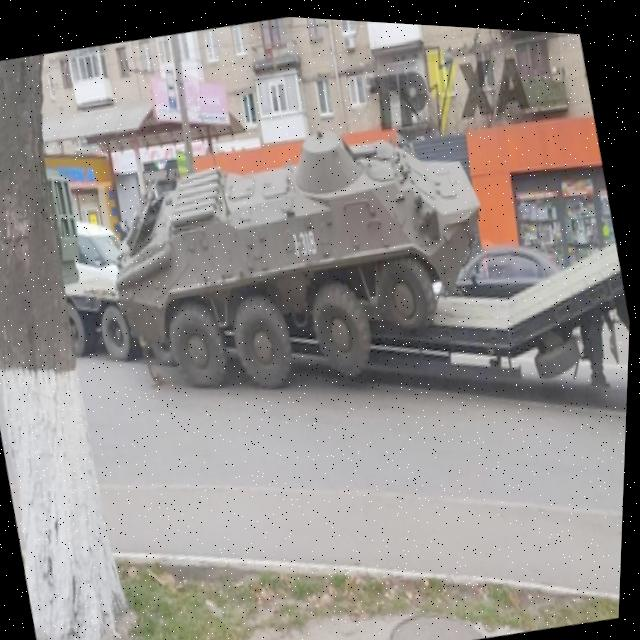MIL_APC: (84, 65, 523, 433)
